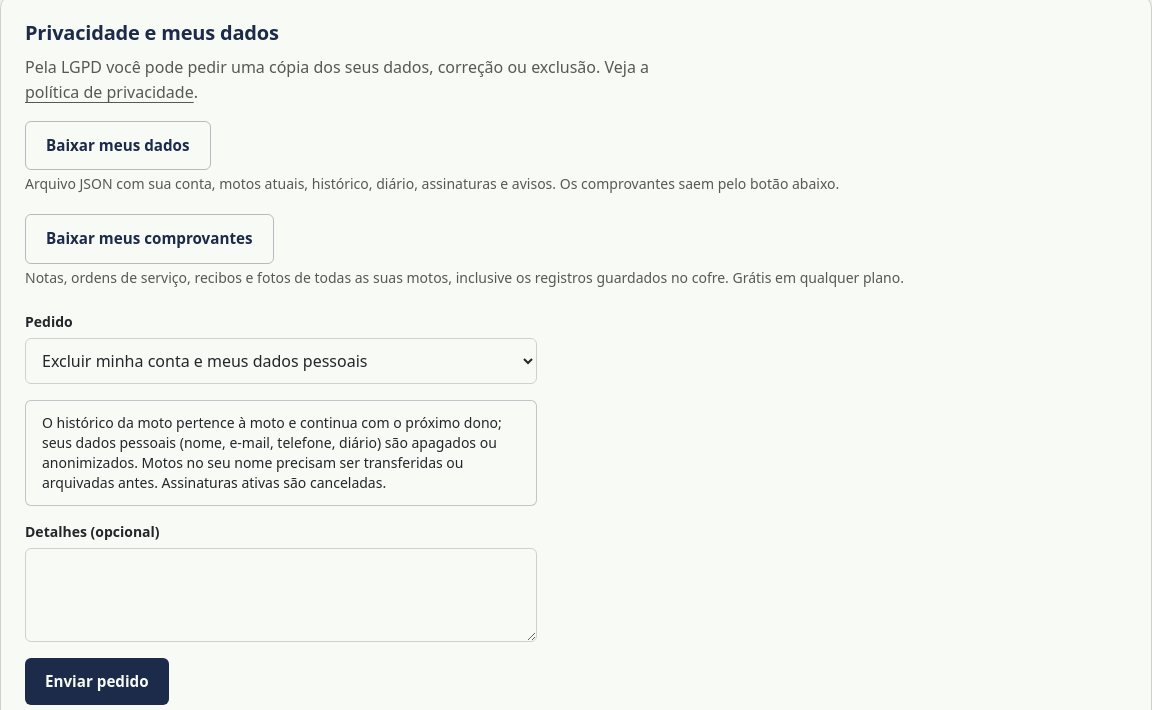
Test: Minha conta (ADR-036) › correção exige descrição
The width and height of the screenshot is (1152, 710).
(page scrolled)
Select "Corrigir dados" in the dropdown labelled "Pedido" at (281, 361), box [25,338,537,384]
(page scrolled)
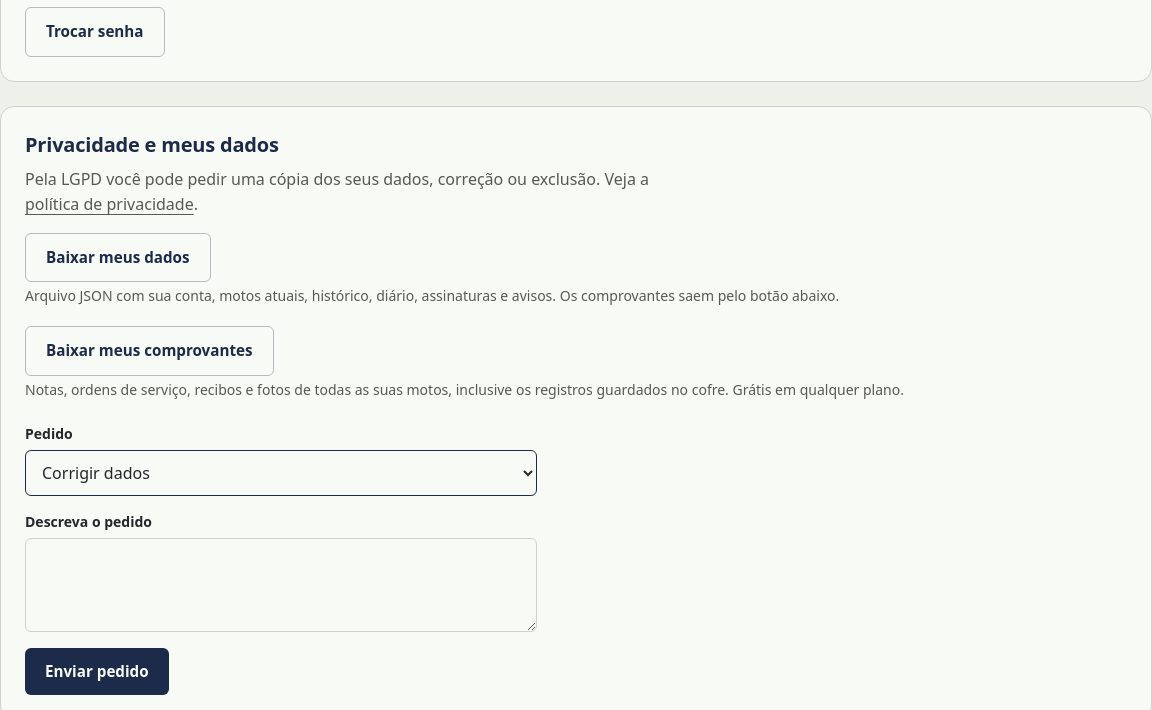
Click the button "Enviar pedido" at (97, 671), box [25,648,169,695]
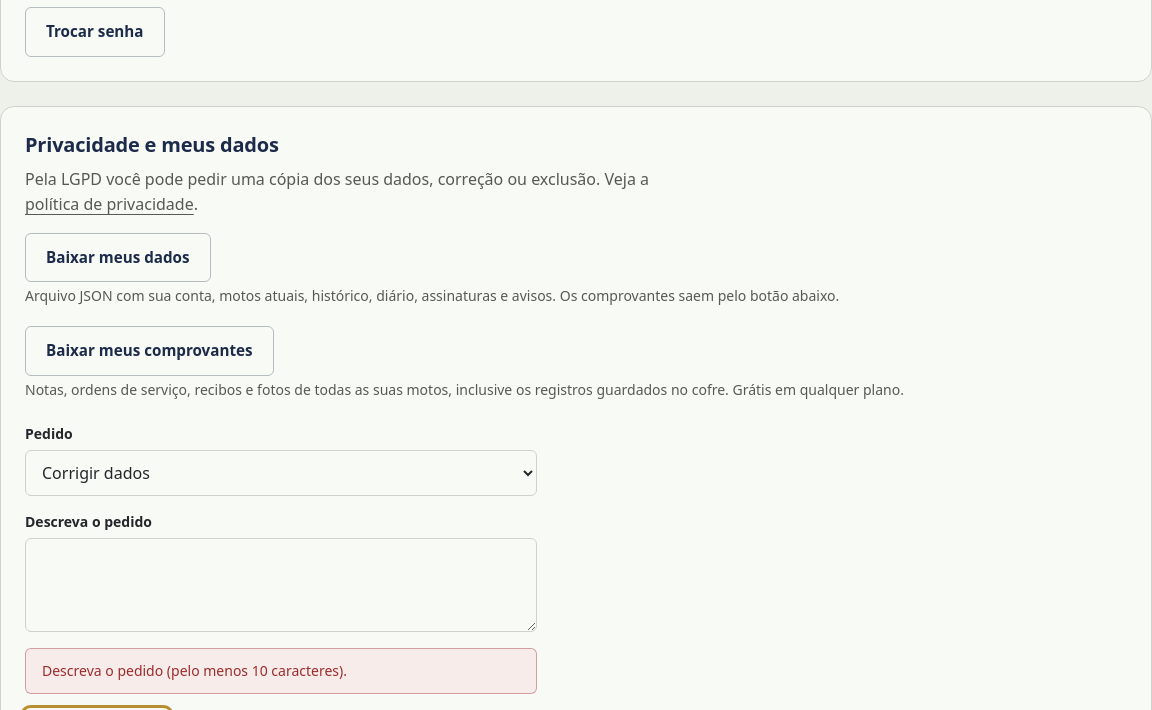
expect the text "Descreva o pedido (pelo menos 10 caracteres)." is shown: met, box [42,661,347,680]
